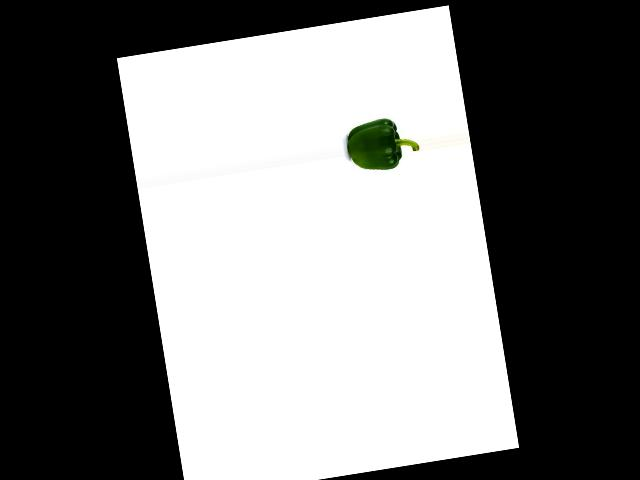bell_pepper: (342, 106, 420, 176)
